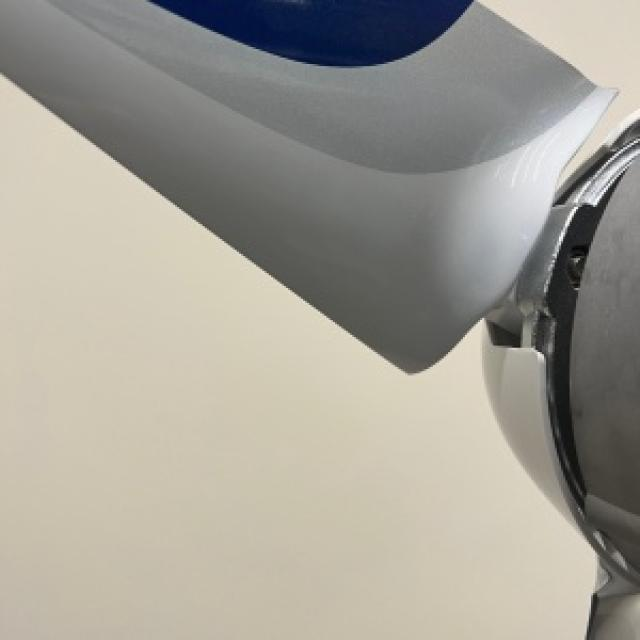healthy: (0, 75, 593, 638)
